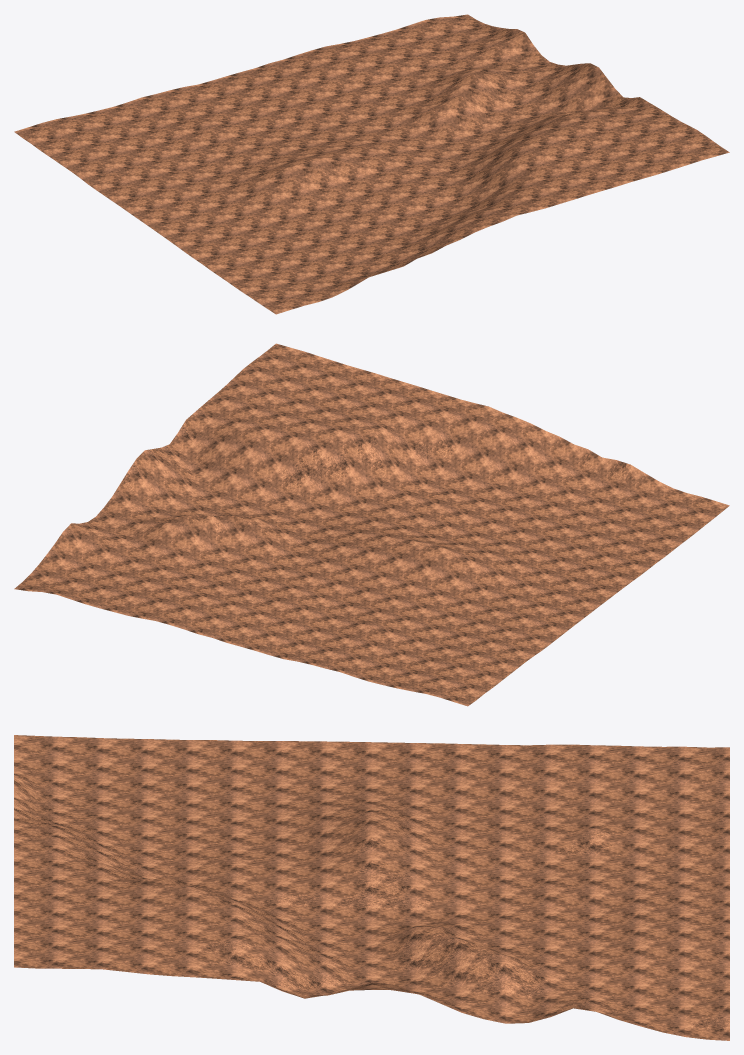
File: terrain_00_09.dae
The picture shows the model from 3 angles, top to bottom: view 1: azimuth 30°, elevation 25°; view 2: azimuth 150°, elevation 25°; view 3: azimuth 270°, elevation 25°; orthographic projection. The views are drawn at different scales.
Parts seen in each view (by area): view 1: terrain_00_09-node; view 2: terrain_00_09-node; view 3: terrain_00_09-node.
Part boxes in pixels (x1=…): terrain_00_09-node: x1=14, y1=14, x2=729, y2=314; terrain_00_09-node: x1=14, y1=343, x2=729, y2=706; terrain_00_09-node: x1=14, y1=735, x2=729, y2=1040.
Size of the model in its own units: 128 by 128 by 16.3.
Materials: 1 (1 with a texture image).
